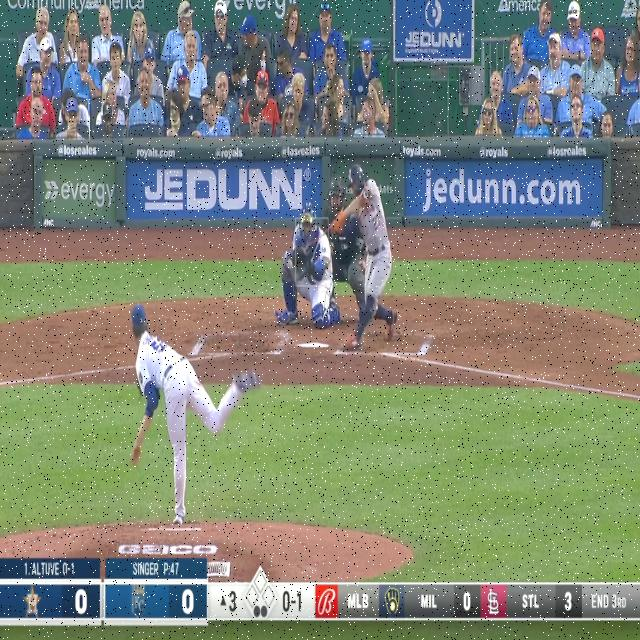baseball: (287, 258, 292, 269)
